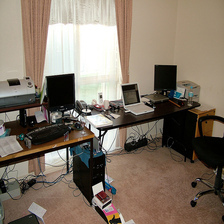laptop: (113, 79, 152, 127)
